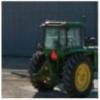tractors: (28, 19, 98, 96)
